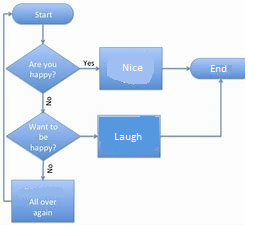arrow: (160, 79, 223, 138), (2, 11, 13, 203), (161, 65, 190, 72), (40, 23, 47, 45), (40, 159, 47, 180), (78, 65, 100, 71), (40, 91, 46, 112), (79, 134, 99, 139)
decision: (5, 43, 81, 95), (4, 111, 81, 161)
process: (95, 114, 163, 160), (98, 46, 164, 92), (10, 178, 75, 224)
terminator: (11, 2, 76, 26), (189, 57, 246, 81)
text: (27, 122, 59, 153), (28, 197, 57, 218), (27, 60, 57, 80), (113, 132, 142, 143), (121, 62, 144, 73), (34, 10, 54, 20), (210, 63, 227, 74), (81, 59, 95, 67), (47, 163, 54, 174), (45, 95, 52, 106)
